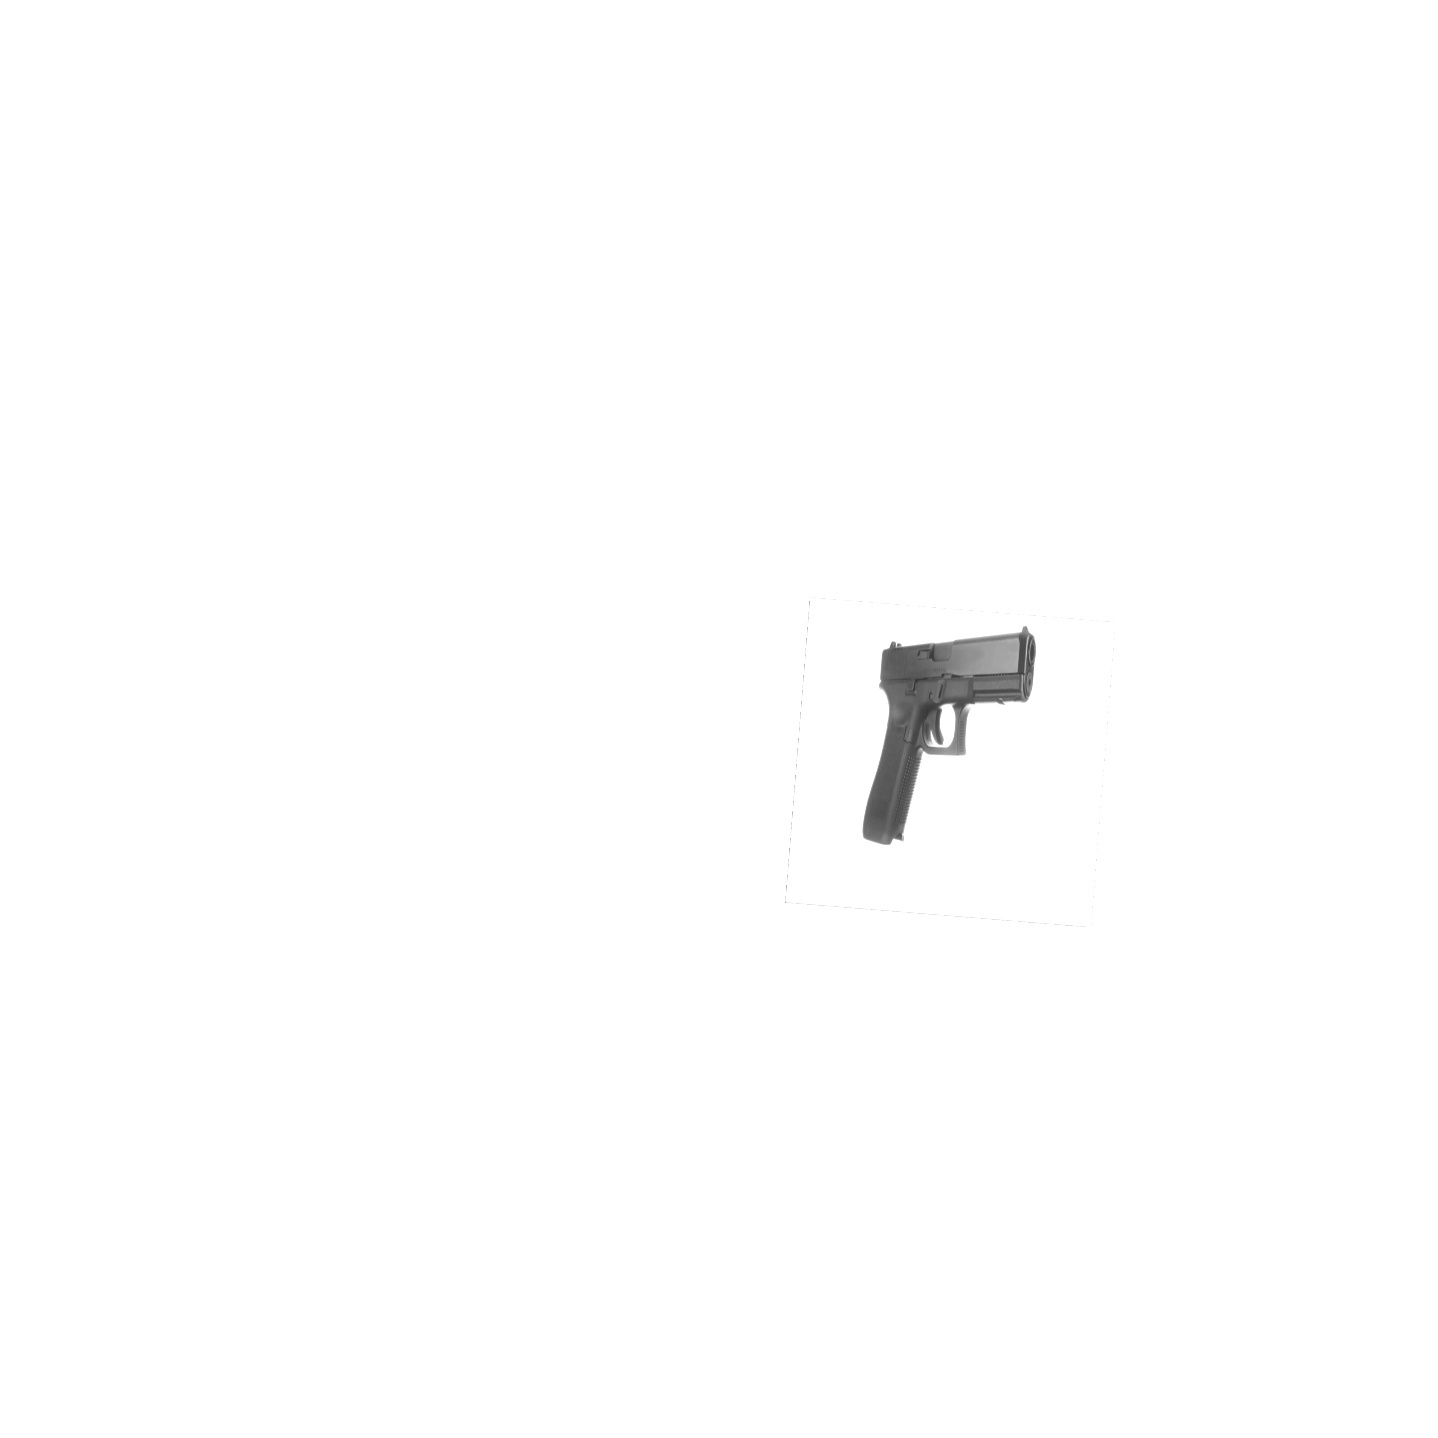gun: (861, 626, 1036, 847)
